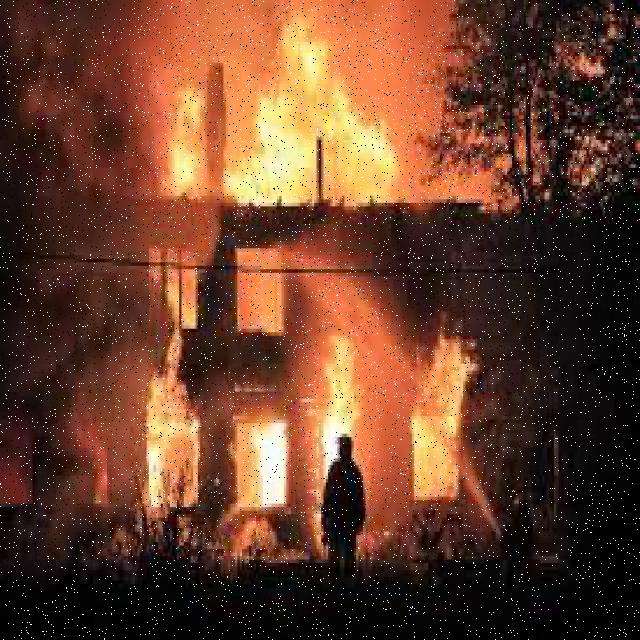fire: (172, 64, 388, 205), (408, 327, 476, 485), (148, 349, 206, 512), (309, 332, 364, 499)
